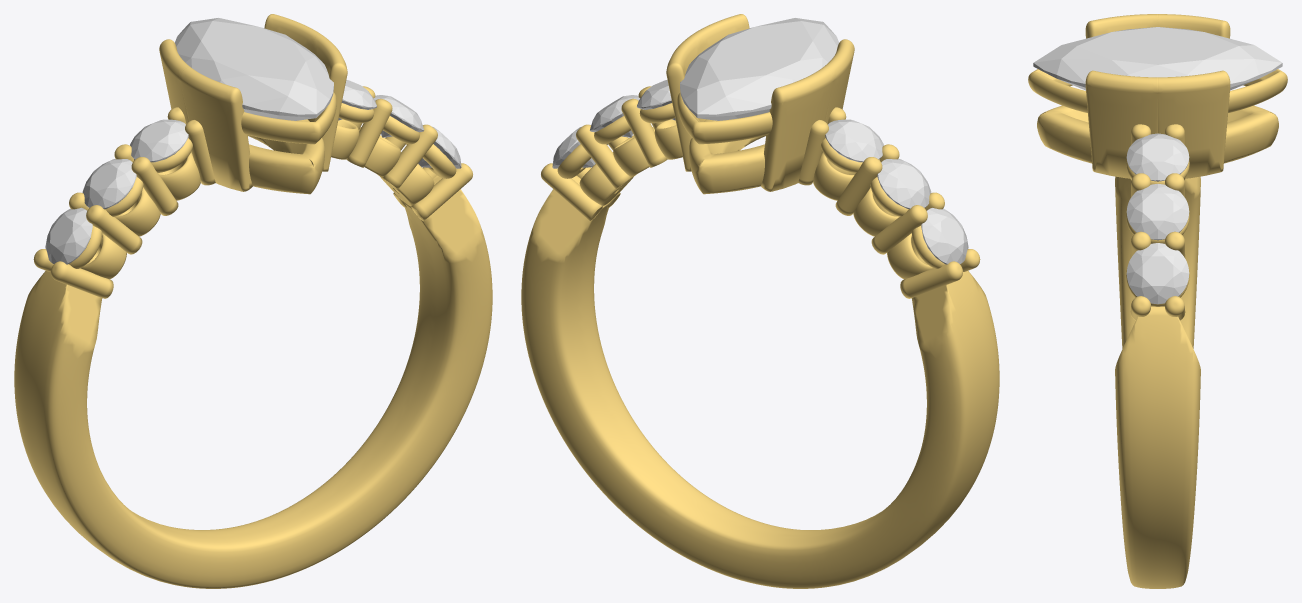
File: diamond-marquise-yellowgold-halfmoonbezel-straighttaperedband-7stone.glb
3 views of the same model, side by side, from view 1: azimuth 30°, elevation 25°; view 2: azimuth 150°, elevation 25°; view 3: azimuth 270°, elevation 25° (orthographic).
Visible parts, largest first — view 1: metal.003, stone.002, side.002, side.013, side.014, side.016, side.017; view 2: metal.003, stone.002, side.002, side.013, side.014, side.016, side.017; view 3: metal.003, stone.002, side.015, side.016, side.017.
Part boxes in pixels (bbox=[...]): metal.003: bbox=[14, 14, 492, 588]; stone.002: bbox=[175, 18, 333, 120]; side.002: bbox=[45, 207, 92, 264]; side.013: bbox=[82, 159, 136, 209]; side.014: bbox=[130, 119, 188, 162]; side.016: bbox=[374, 95, 423, 137]; side.017: bbox=[338, 80, 376, 120]; metal.003: bbox=[521, 14, 999, 588]; stone.002: bbox=[680, 18, 838, 120]; side.002: bbox=[921, 208, 968, 264]; side.013: bbox=[877, 159, 931, 209]; side.014: bbox=[825, 119, 883, 162]; side.016: bbox=[589, 95, 639, 137]; side.017: bbox=[637, 80, 675, 120]; metal.003: bbox=[1028, 14, 1287, 588]; stone.002: bbox=[1033, 27, 1282, 90]; side.015: bbox=[1126, 243, 1189, 304]; side.016: bbox=[1126, 184, 1189, 240]; side.017: bbox=[1126, 133, 1189, 181].
Size of the model in its own units: 20.5 by 22.93 by 10.4.
